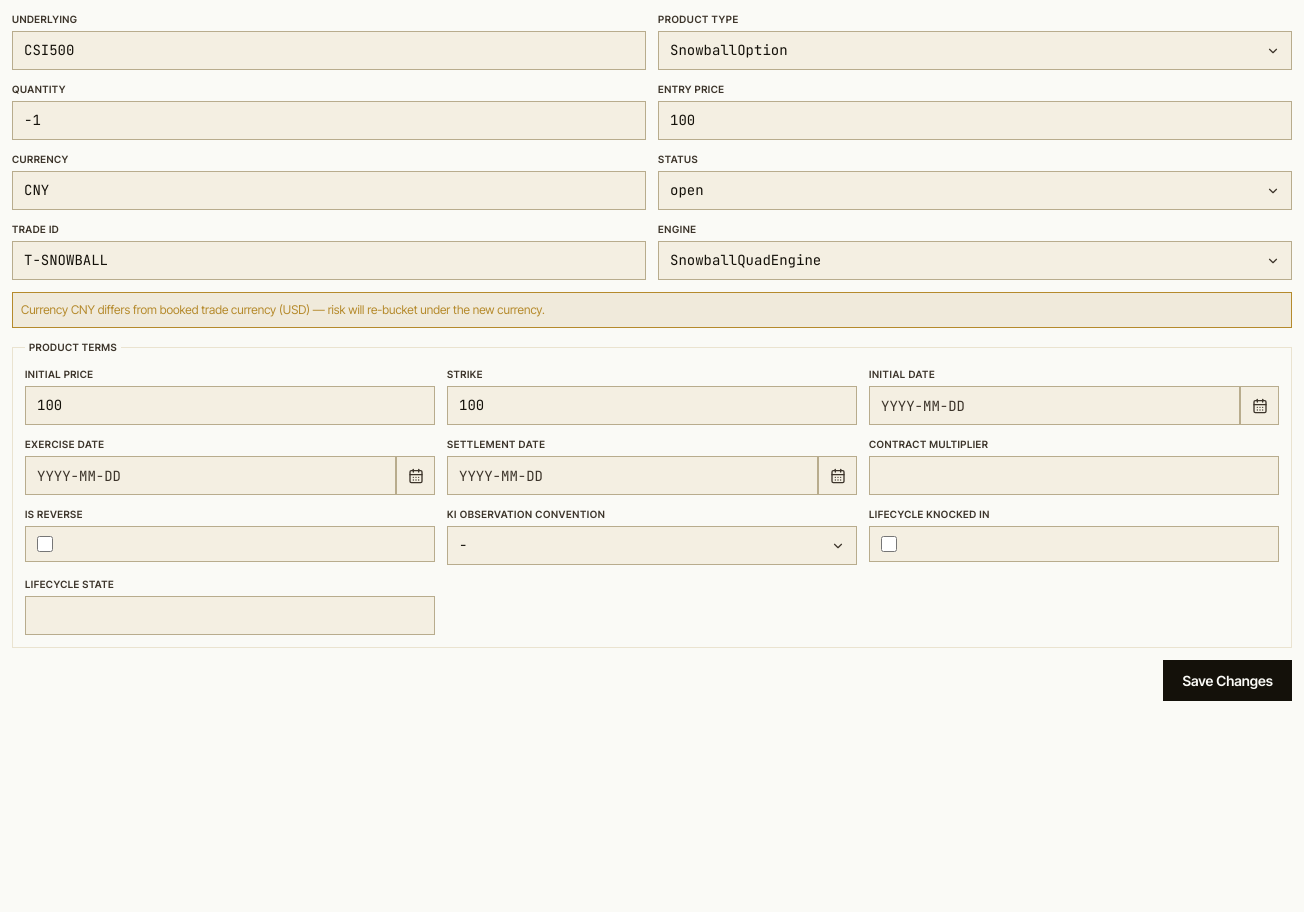
Scenario: PositionEditForm › rejects a malformed currency before submitting
Replace the text in the field labelled "Currency" with "C1" at point(329, 190), box [12, 171, 646, 210]
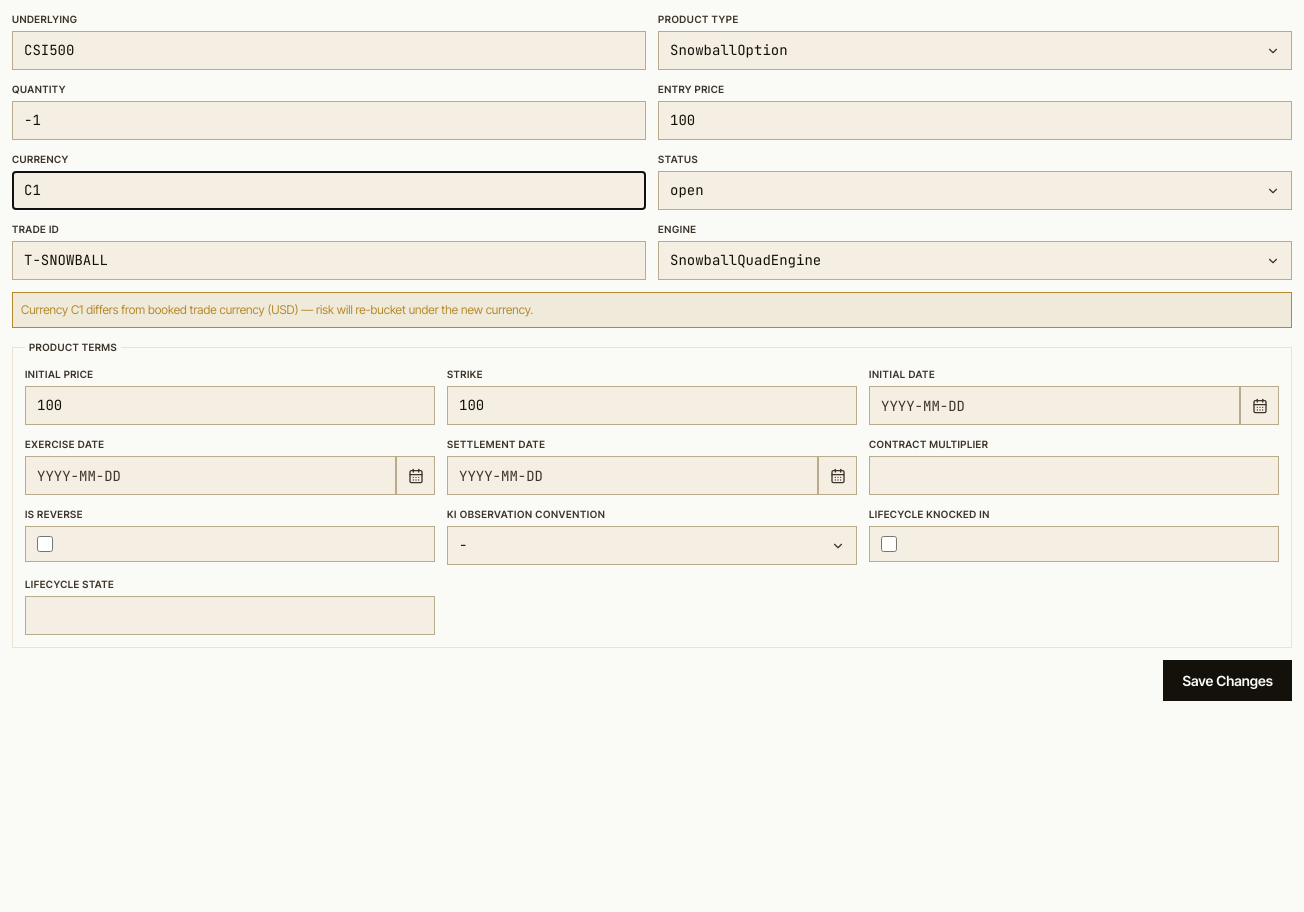
Click the button "Save Changes" at point(1228, 680), box [1164, 660, 1292, 701]
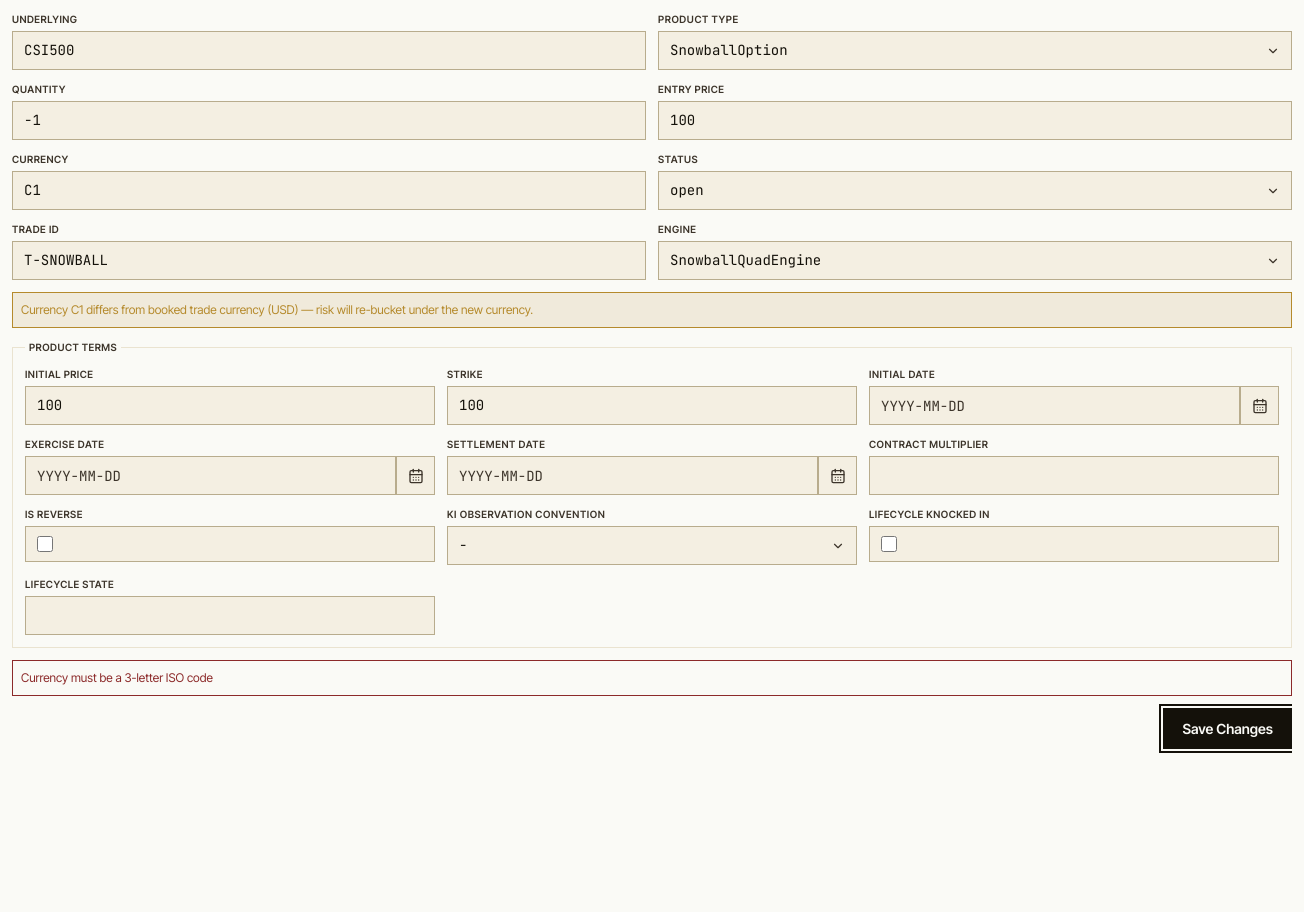
Check: the text "Currency must be a 3-letter ISO code" is shown, box [12, 660, 1292, 696]
